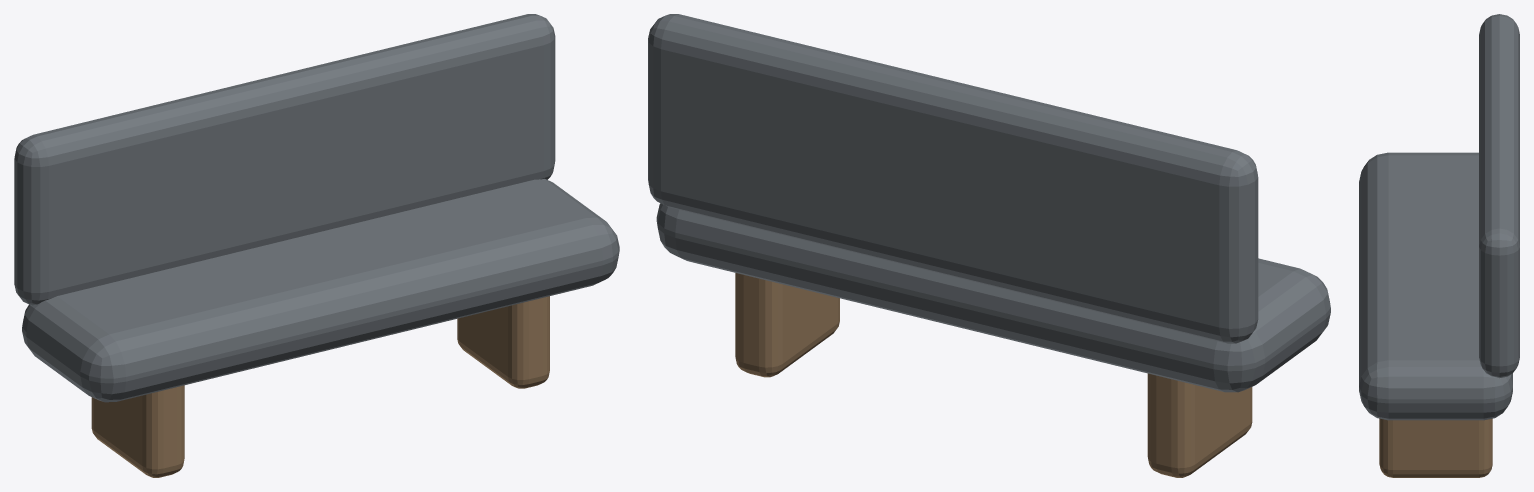
3 views of the same model, side by side, from view 1: azimuth 30°, elevation 25°; view 2: azimuth 150°, elevation 25°; view 3: azimuth 270°, elevation 25° (orthographic). The views are drawn at different scales.
Visible parts, largest first — view 1: LOD0_BENCH_CIVIC_Back, LOD0_BENCH_CIVIC_Seat, LOD0_BENCH_CIVIC_Leg, LOD0_BENCH_CIVIC_Leg.001; view 2: LOD0_BENCH_CIVIC_Back, LOD0_BENCH_CIVIC_Seat, LOD0_BENCH_CIVIC_Leg, LOD0_BENCH_CIVIC_Leg.001; view 3: LOD0_BENCH_CIVIC_Seat, LOD0_BENCH_CIVIC_Back, LOD0_BENCH_CIVIC_Leg.001.
Boxes of the visible parts, x1,y1,x2,y2 form: LOD0_BENCH_CIVIC_Back: (14,14,555,305); LOD0_BENCH_CIVIC_Seat: (22,178,619,402); LOD0_BENCH_CIVIC_Leg: (91,385,184,477); LOD0_BENCH_CIVIC_Leg.001: (457,296,549,388); LOD0_BENCH_CIVIC_Back: (648,14,1258,343); LOD0_BENCH_CIVIC_Seat: (656,203,1330,392); LOD0_BENCH_CIVIC_Leg: (1147,373,1252,477); LOD0_BENCH_CIVIC_Leg.001: (735,273,839,377); LOD0_BENCH_CIVIC_Seat: (1359,152,1512,420); LOD0_BENCH_CIVIC_Back: (1479,14,1519,378); LOD0_BENCH_CIVIC_Leg.001: (1379,418,1492,477).
Size of what is drawn, in the model's own units: 2.4 by 1.33 by 0.71.
